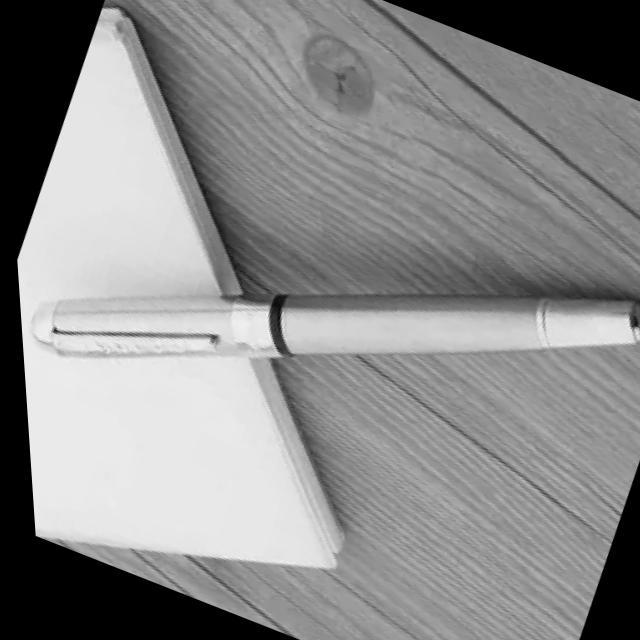pencil: (18, 269, 639, 420)
